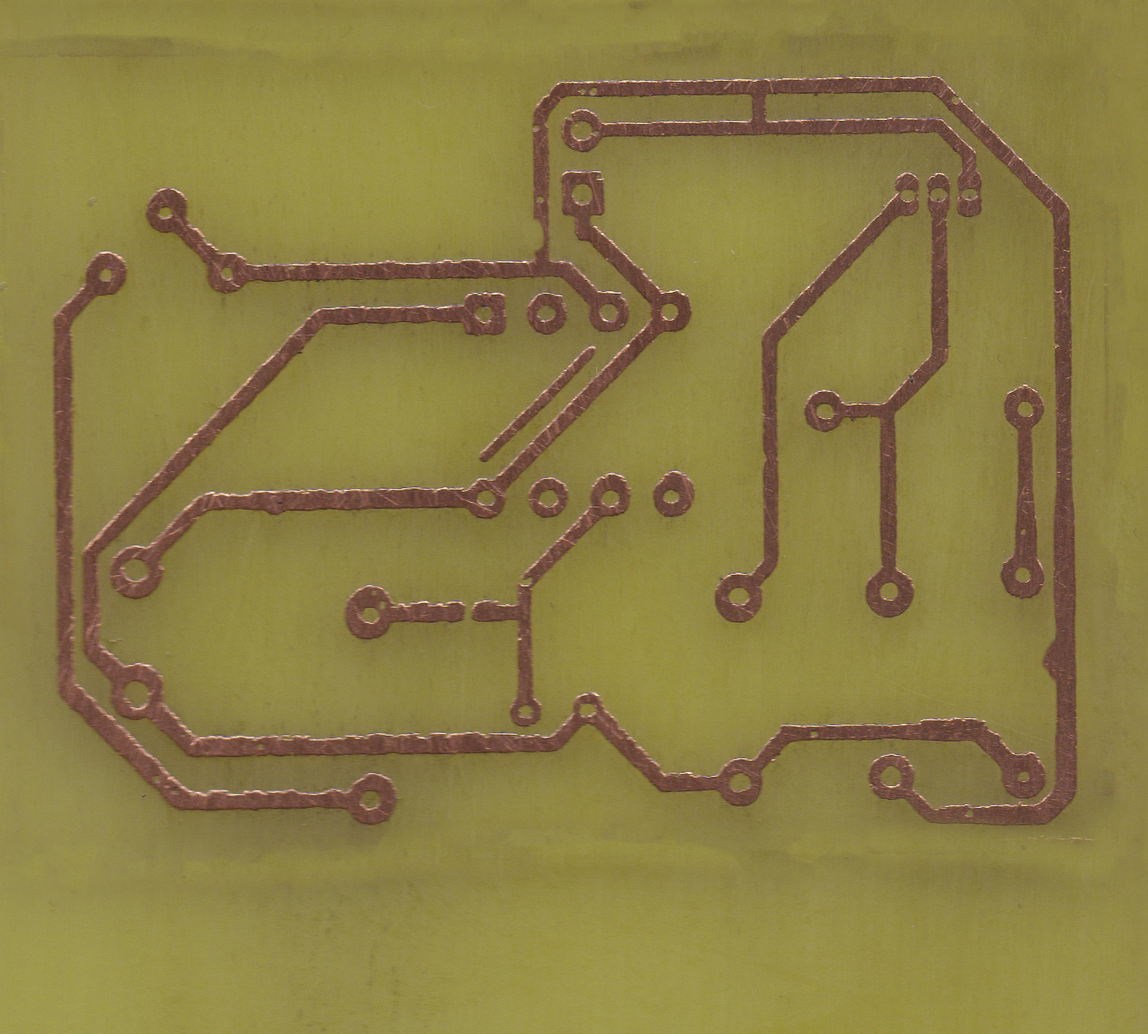mouse_bite: (531, 215, 549, 255), (516, 572, 534, 589)
open_circuit: (454, 601, 483, 624)
short: (742, 81, 777, 133)
spur: (1040, 639, 1076, 681), (257, 492, 293, 517)
spurious_copper: (478, 347, 595, 464)
